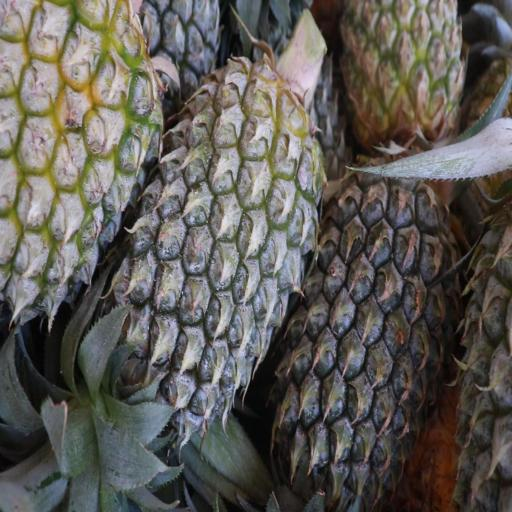------------------------------: (0, 1, 157, 307), (341, 0, 464, 137)
